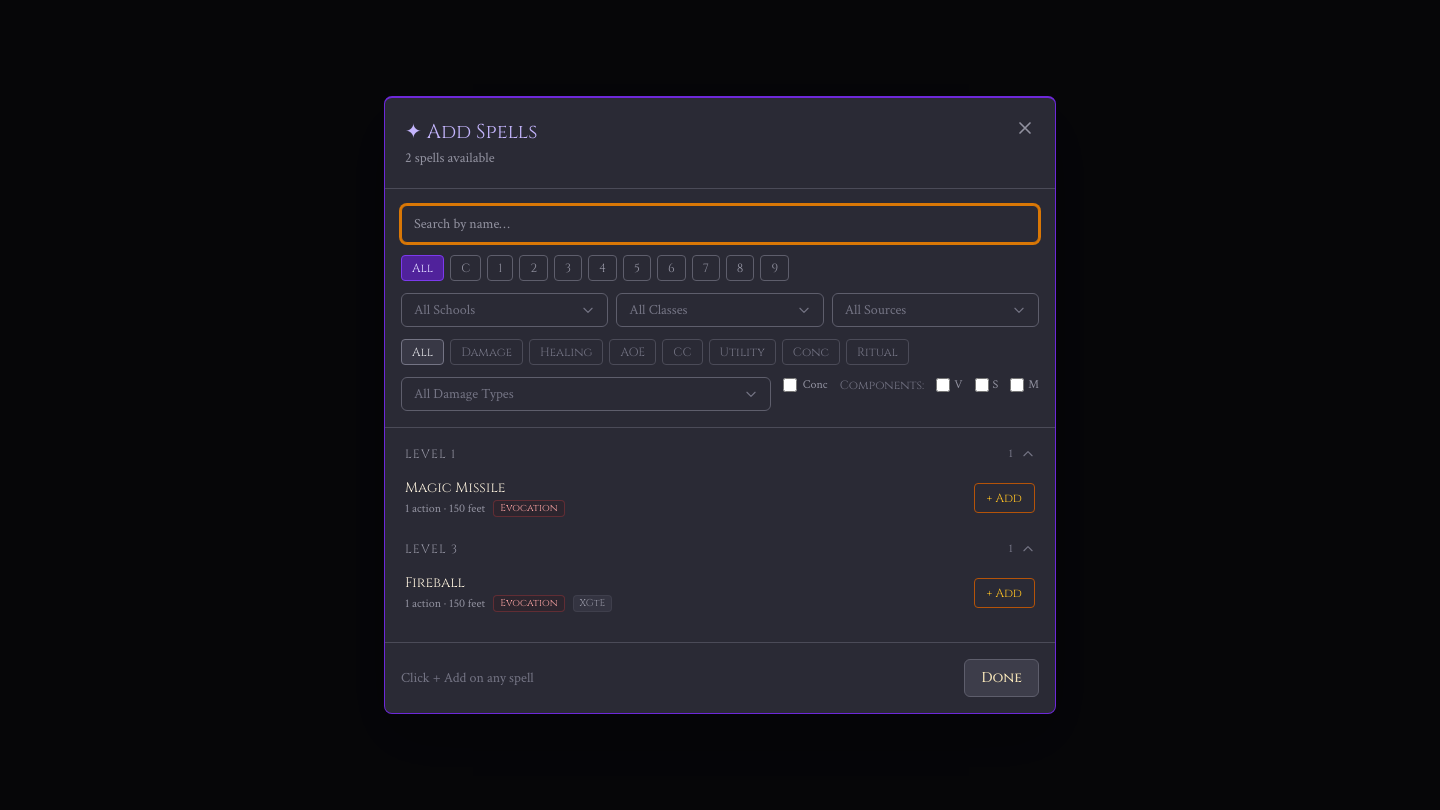
Test: AddSpellPicker › level filter › activates a level pill when clicked
Click the button "1" at (500, 268), box x1=487 y1=255 x2=513 y2=281
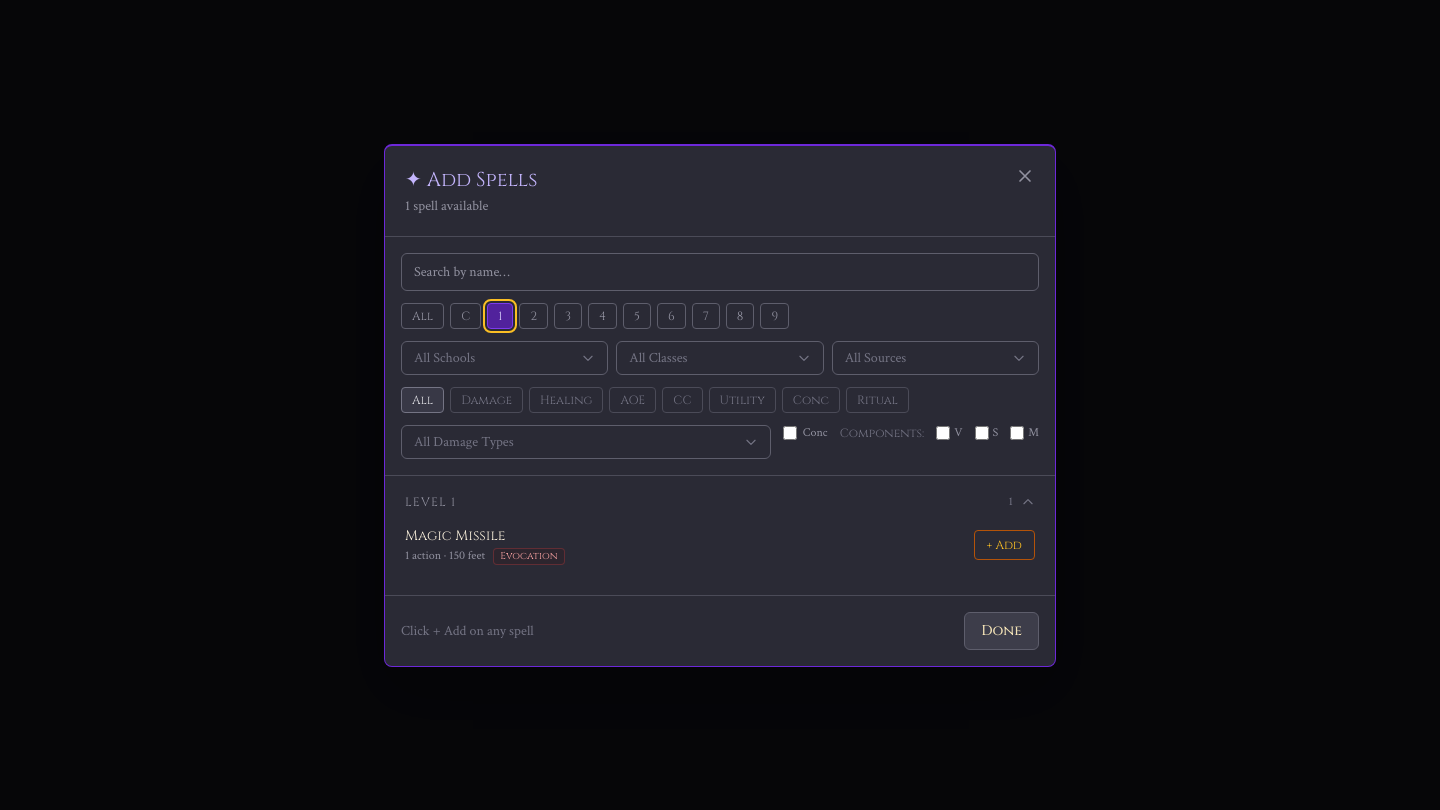
Expected: the text "Magic Missile" is shown, x1=405 y1=526 x2=505 y2=546
Result: the text "Fireball" is gone
